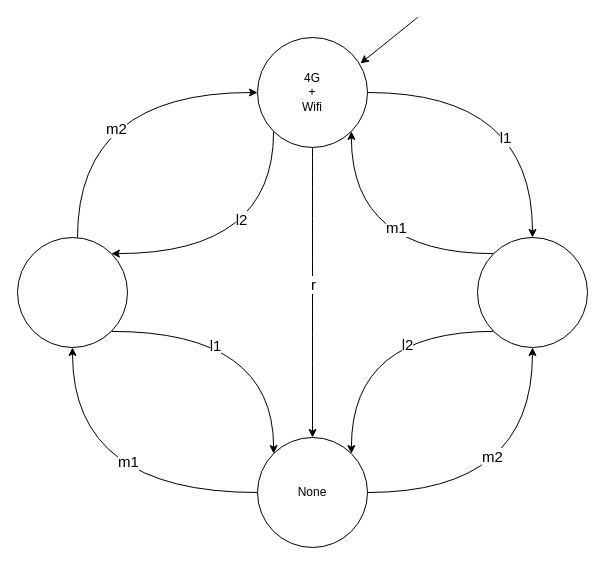
This 605x565 diagram has some shape labels left out. Here are the shapes that lost their labels. From the top down, the centre of each, then its label:
At point (72, 292): "4G".
At point (532, 292): "Wifi".
